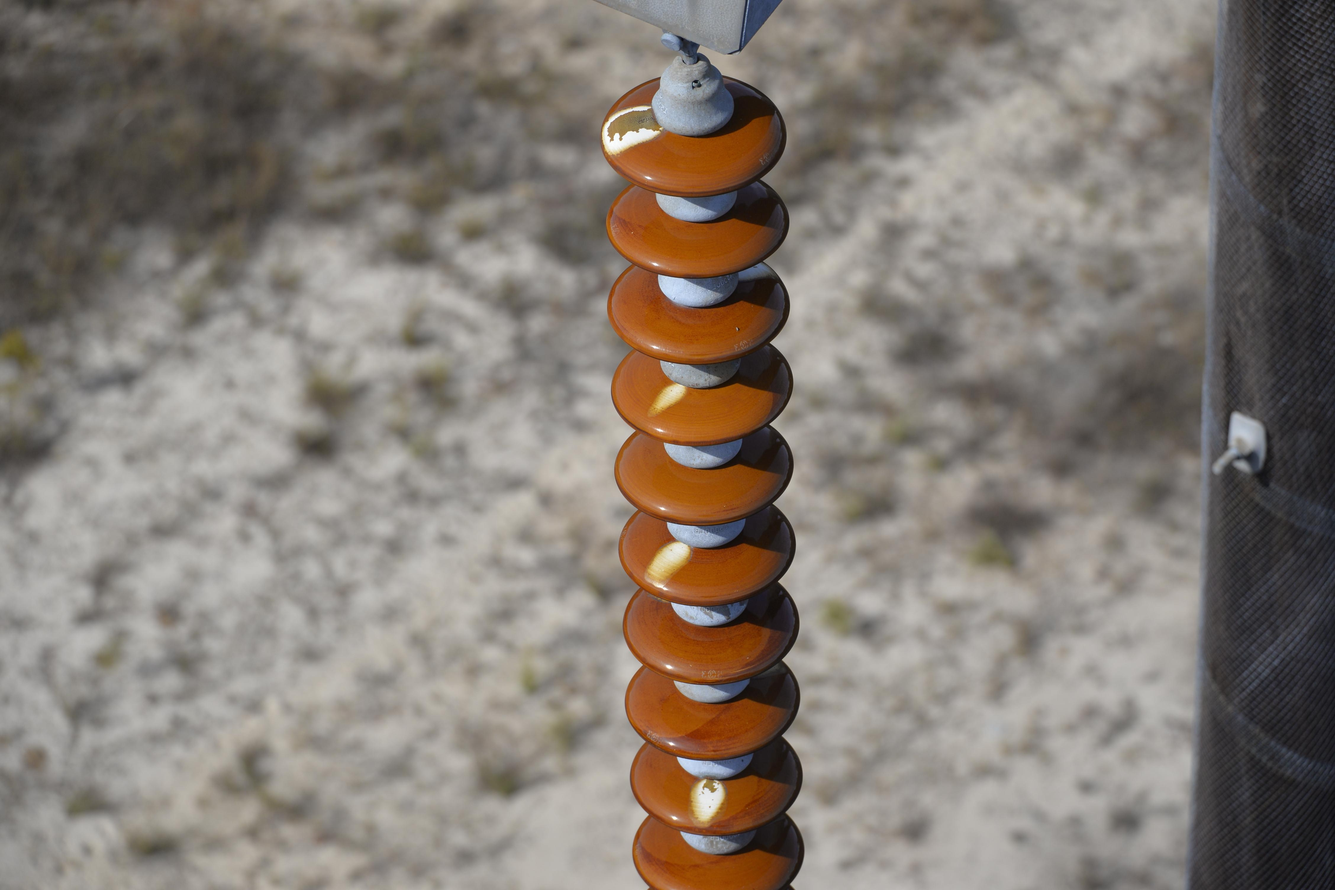Flashover: (604, 101, 671, 159), (646, 533, 690, 585), (688, 768, 728, 823), (648, 378, 688, 418)
insulator: (594, 77, 805, 890)
